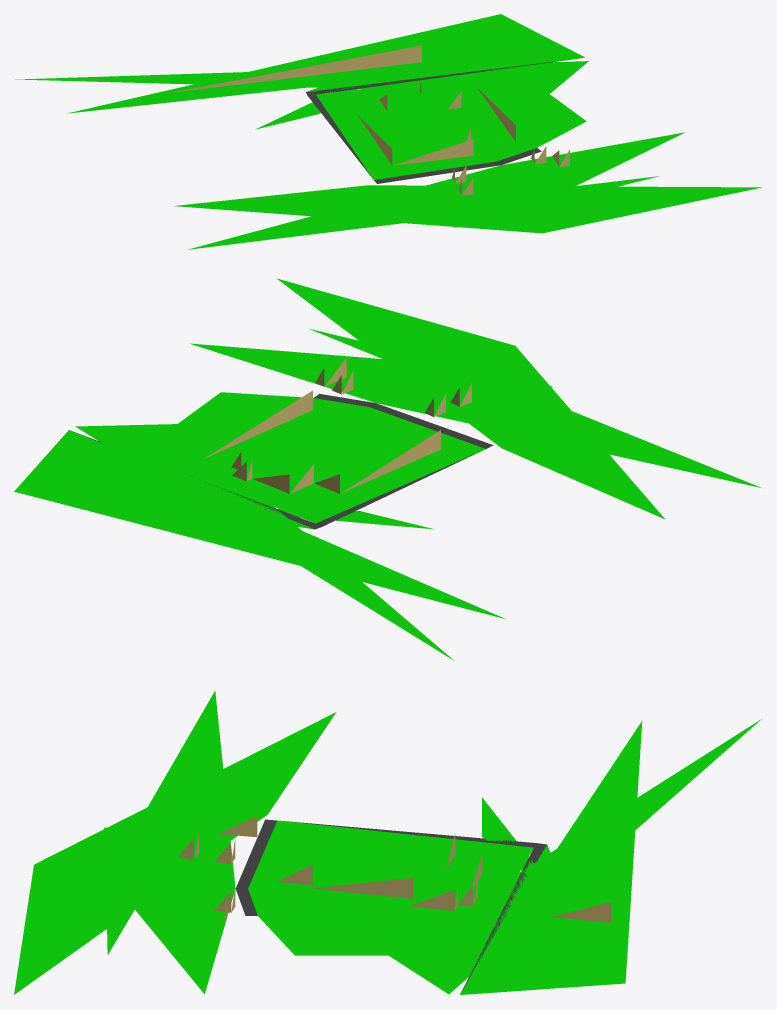
3 renders of one model, top to bottom at view 1: azimuth 30°, elevation 25°; view 2: azimuth 150°, elevation 25°; view 3: azimuth 270°, elevation 25°, orthographic. The views are drawn at different scales.
Size of the model in its own units: 231 by 7.5 by 240.
